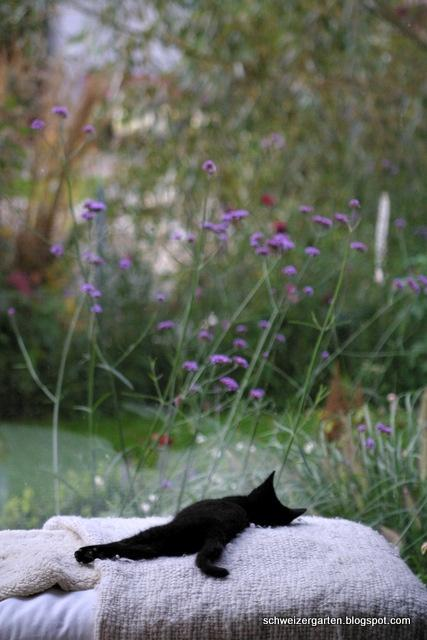kedo: (77, 473, 305, 574)
